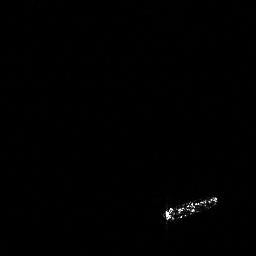ship: (161, 195, 219, 224)
